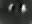person: (22, 4, 28, 14), (8, 4, 13, 14)
